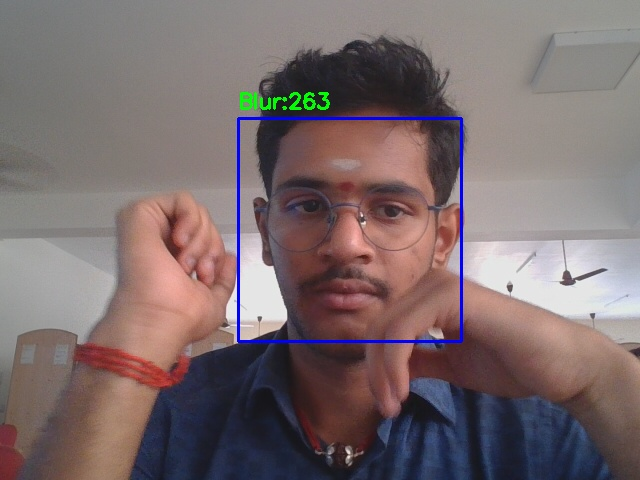real: (238, 118, 461, 341)
